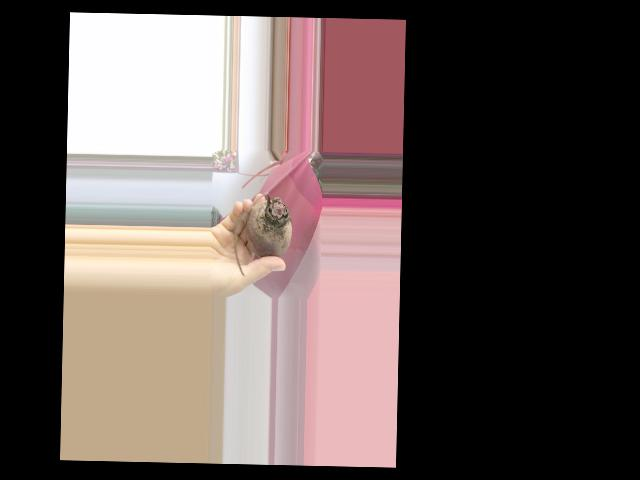beet: (233, 190, 292, 277)
